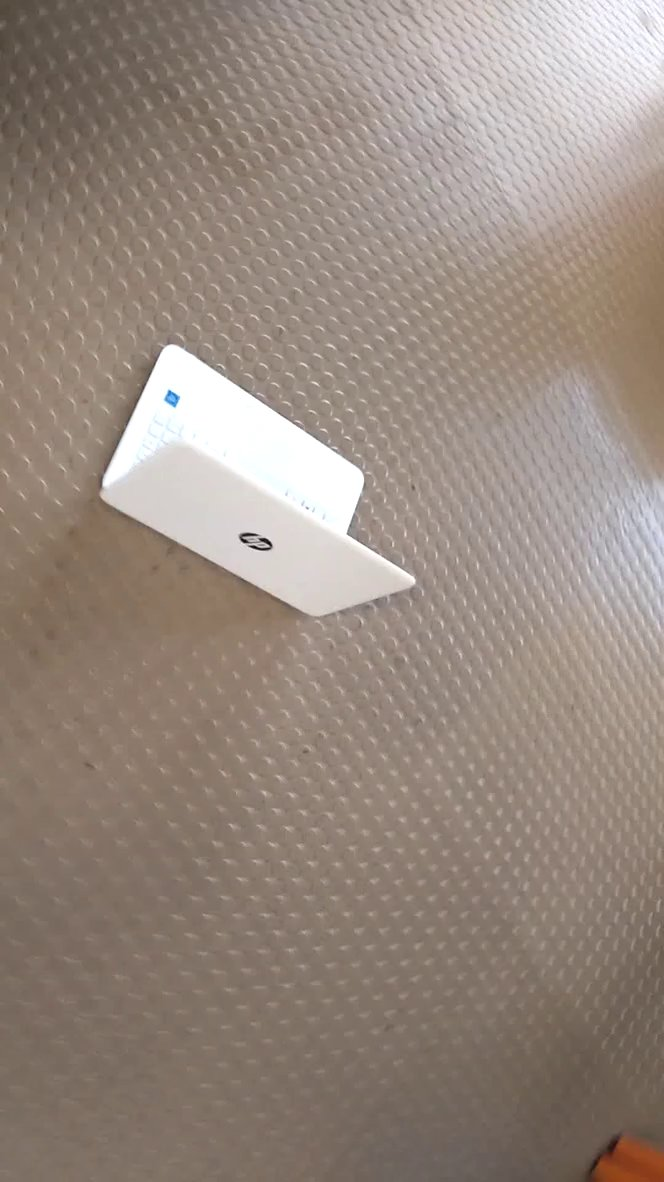laptop: (87, 322, 421, 653)
